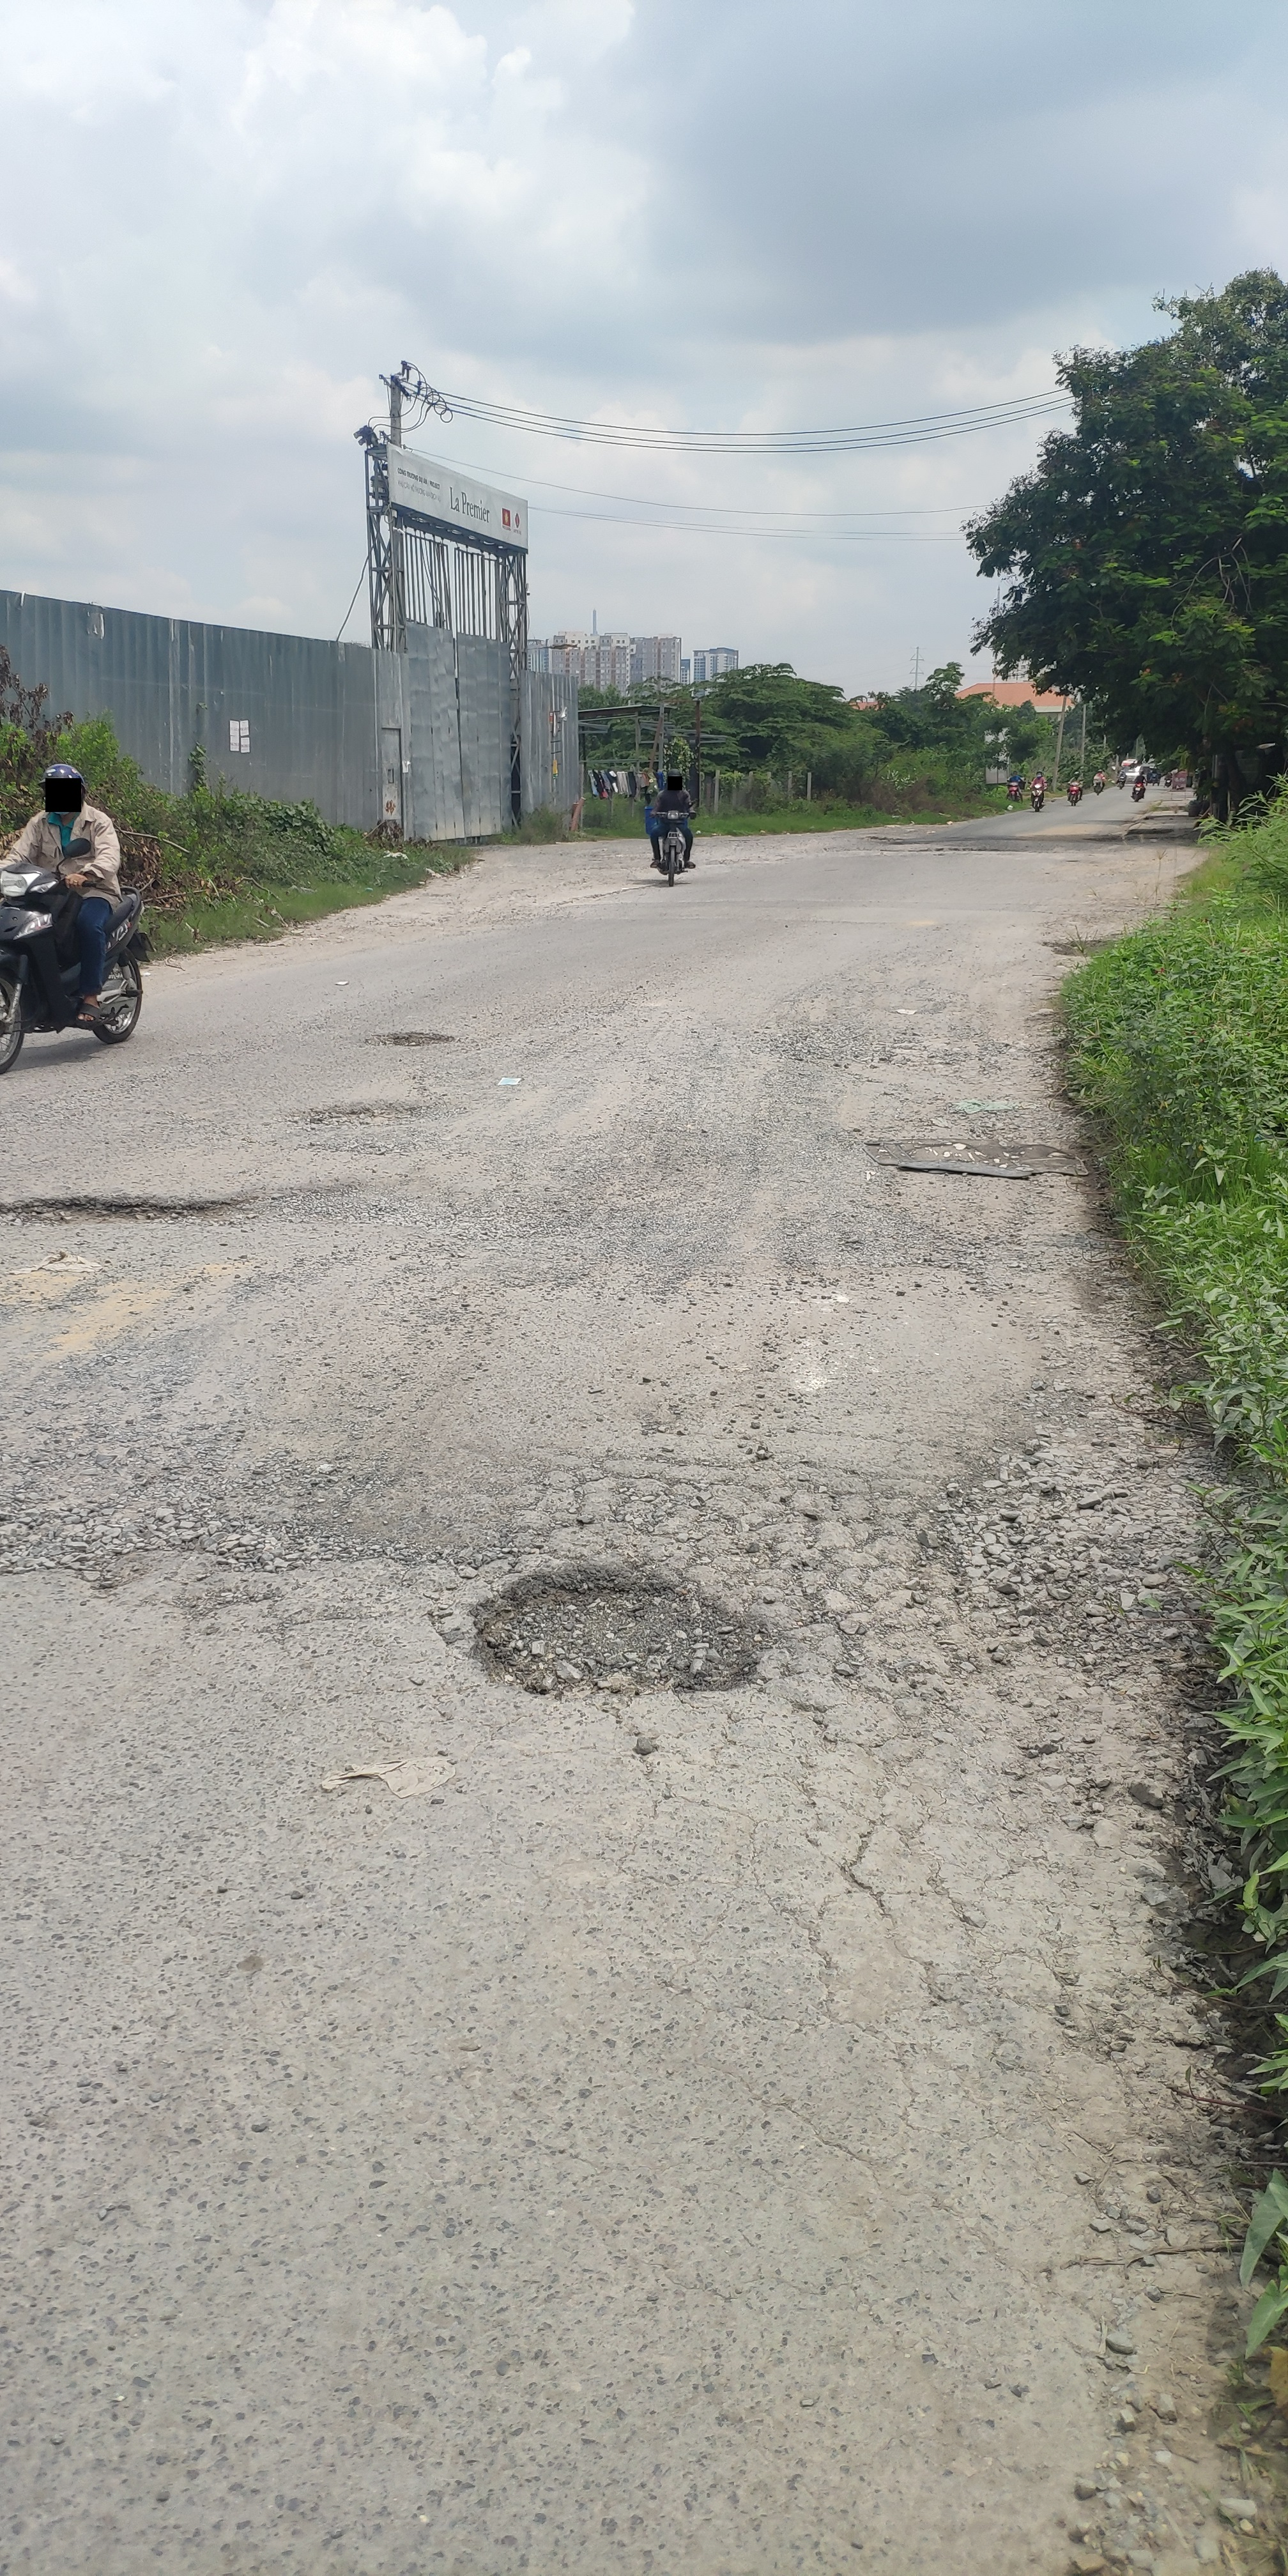hole: (437, 1551, 784, 1707), (747, 954, 1002, 1069), (0, 1188, 235, 1232), (255, 1171, 406, 1232), (283, 1099, 421, 1132), (355, 1027, 452, 1051)
